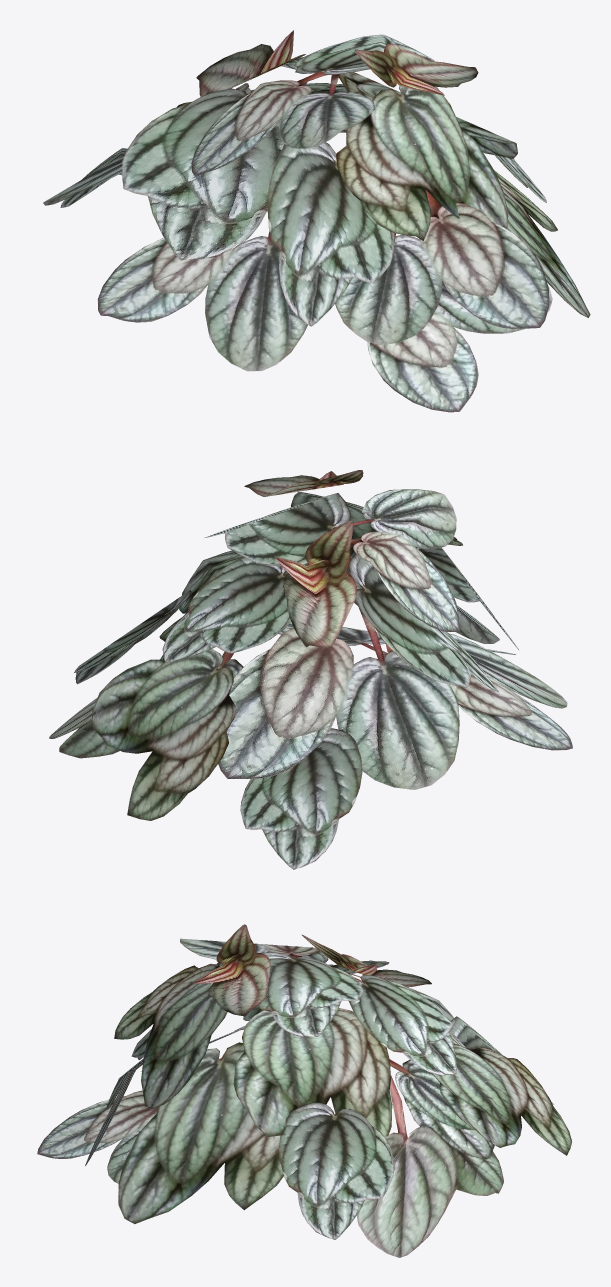
The model's file is Peperomia3.fbx.
3 renders of one model, top to bottom at view 1: azimuth 30°, elevation 25°; view 2: azimuth 150°, elevation 25°; view 3: azimuth 270°, elevation 25°, orthographic. The views are drawn at different scales.
Visible parts, largest first — view 1: Peperomia3; view 2: Peperomia3; view 3: Peperomia3.
Boxes of the visible parts, x1,y1,x2,y2 form: Peperomia3: (43,30,590,412); Peperomia3: (49,470,572,869); Peperomia3: (37,924,571,1257).
Bounding box in the file's own units: 62.85 × 34.7 × 71.04.
